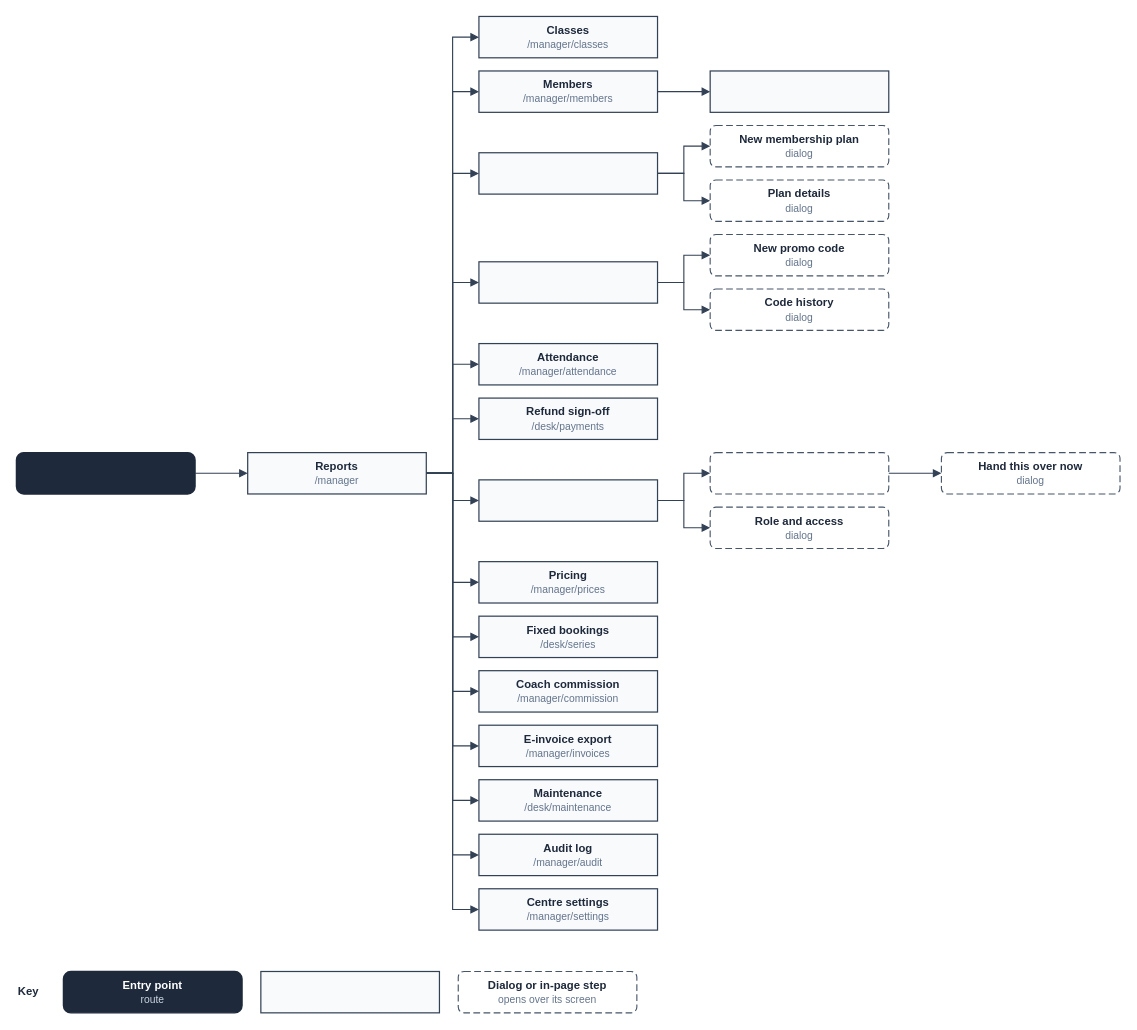
This 1137x1030 diagram has some shape labels left out. Each missing label, with the box of its shape:
Add staff dialog: (709, 452, 889, 494)
Member profile /desk/member/$id: (709, 70, 889, 113)
Membership plans /manager/plans: (478, 152, 658, 194)
Promo codes /manager/promos: (478, 261, 658, 303)
Screen route: (260, 970, 440, 1013)
Sign in /login: (15, 451, 195, 494)
Staff /manager/staff: (478, 479, 658, 521)
